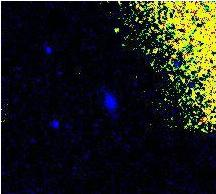star: (99, 14, 129, 44)
